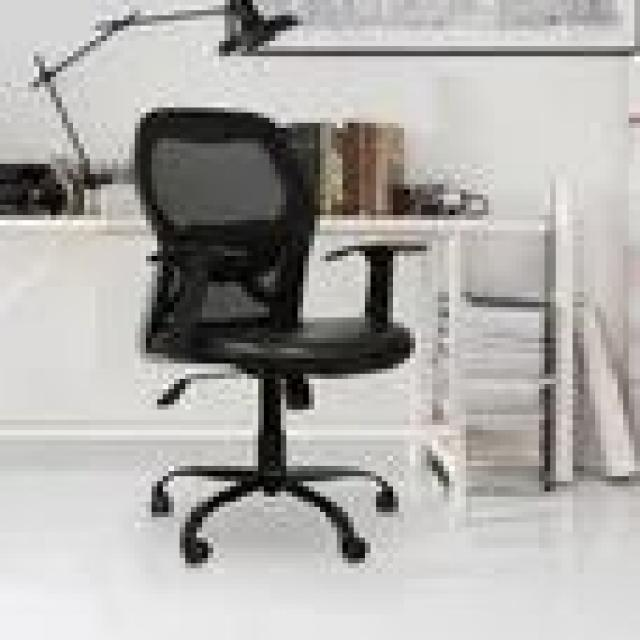chair: (107, 92, 443, 577)
